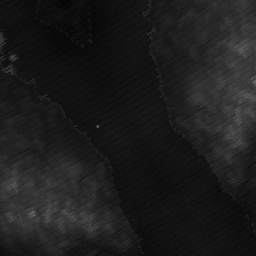Target: (95, 124, 101, 129)
